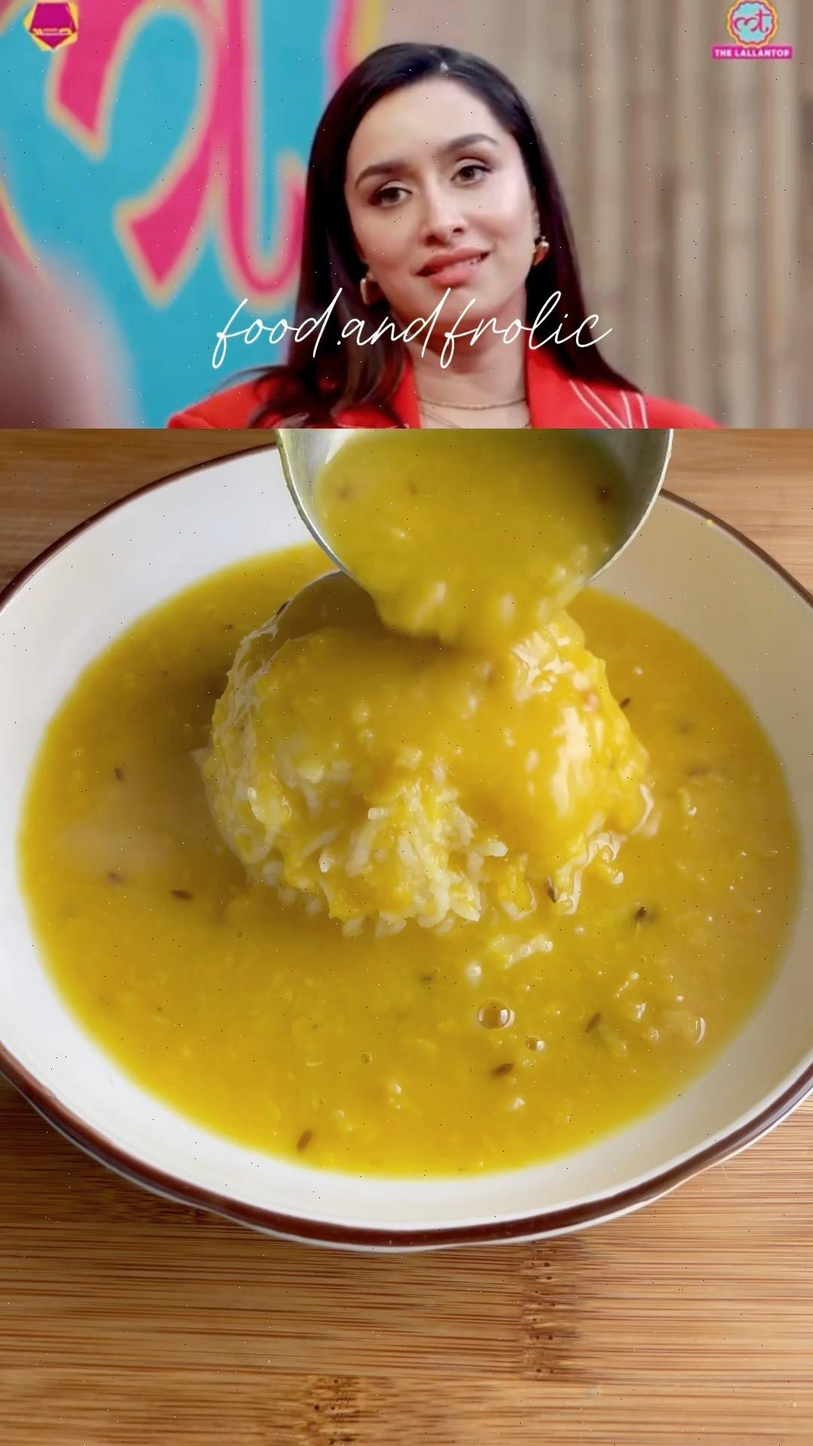varan: (30, 589, 813, 1186)
